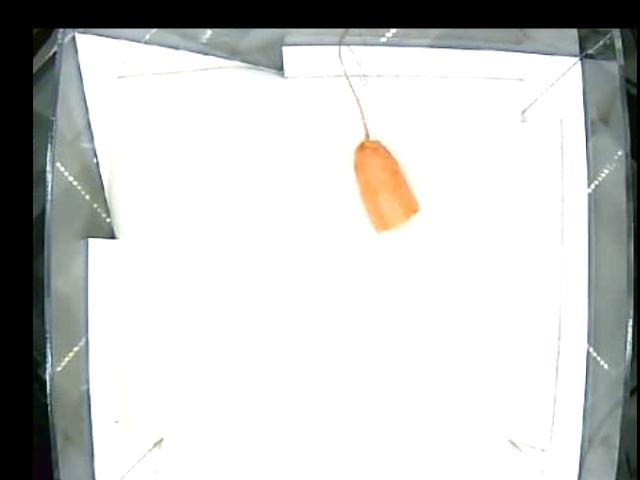Carrot: (338, 137, 425, 230)
